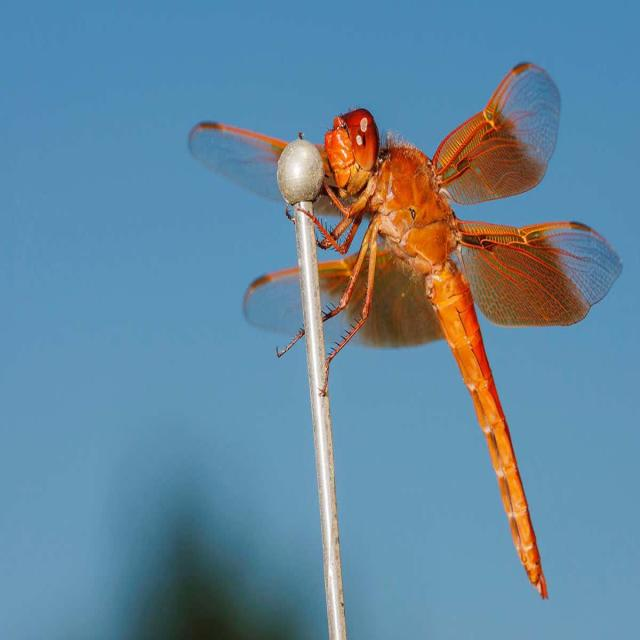dragonfly: (188, 63, 621, 598)
